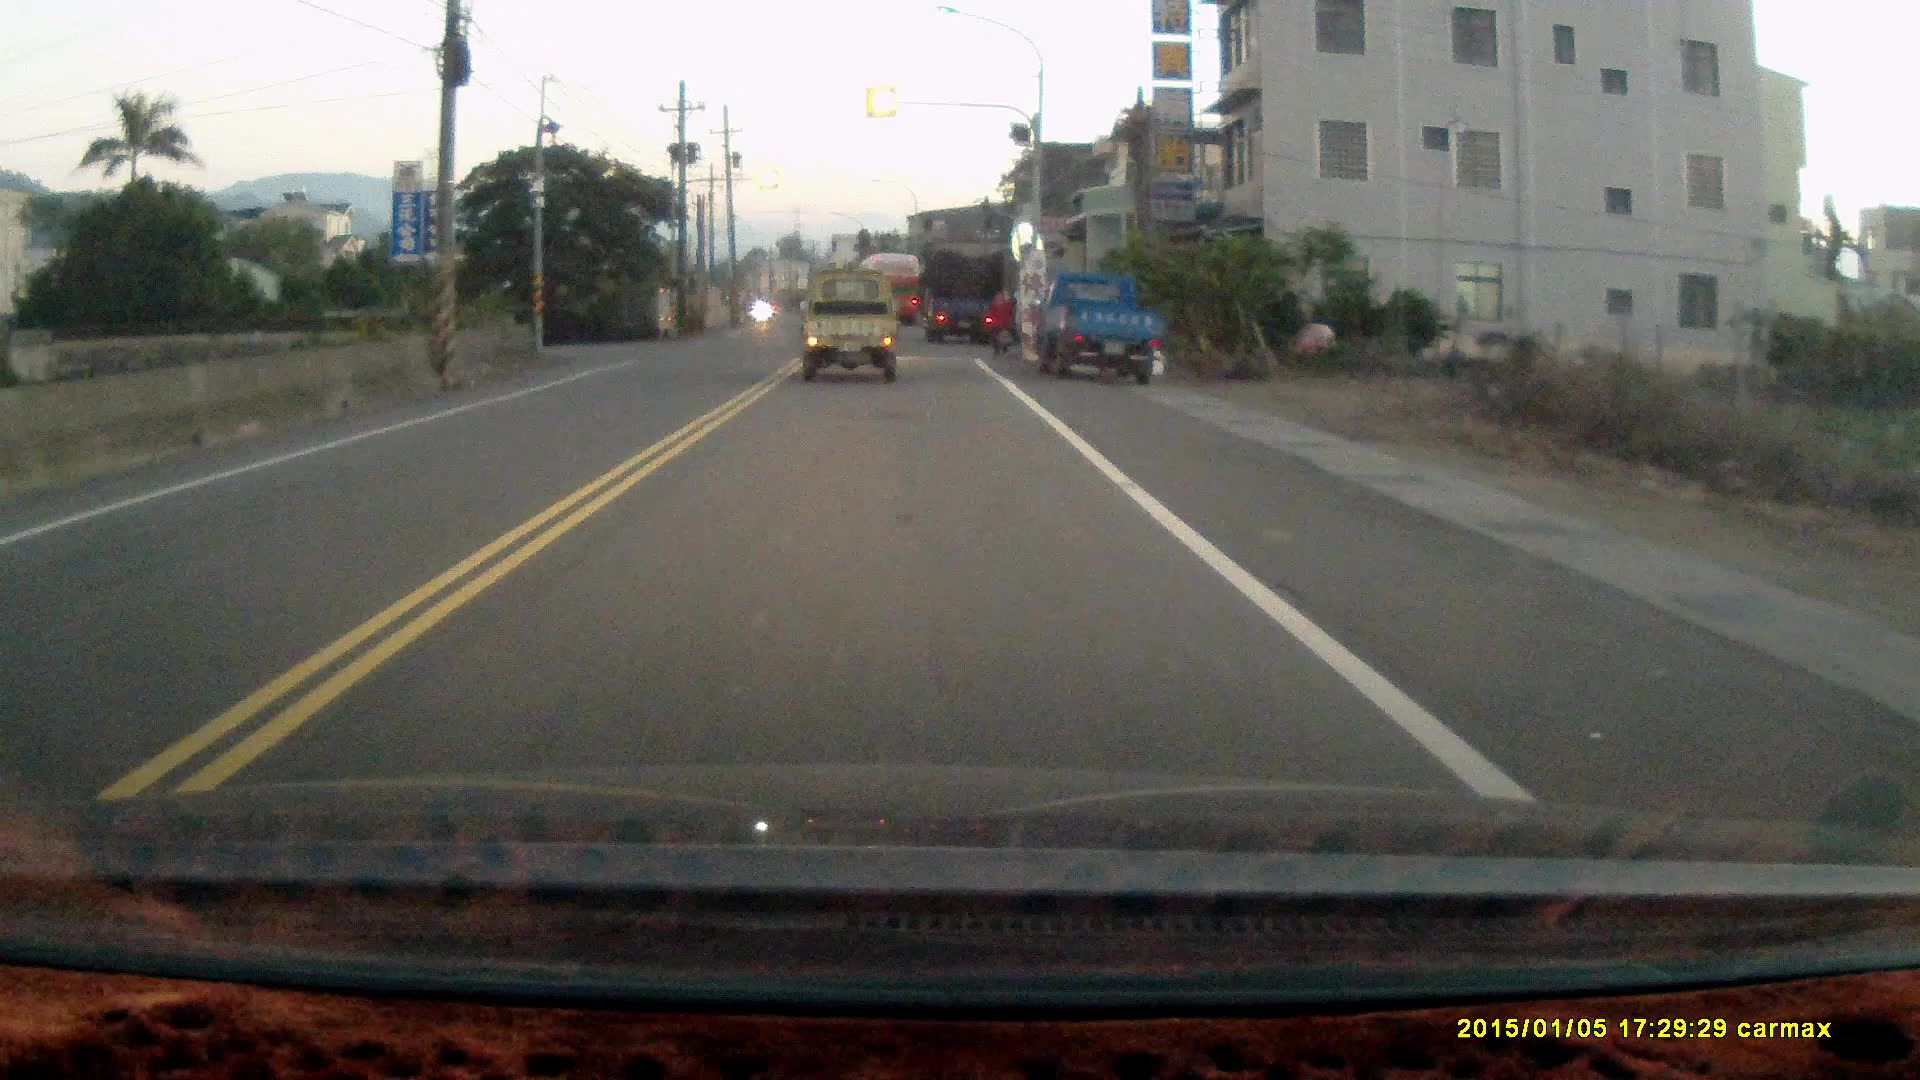pedestrian: (984, 277, 1015, 350)
vehicle: (1028, 267, 1163, 384), (803, 274, 908, 383), (924, 244, 1006, 344)
